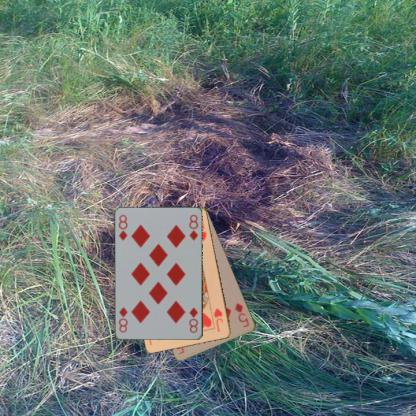5d: (232, 300, 251, 329)
8d: (116, 212, 129, 242), (187, 305, 199, 335)
Jh: (212, 305, 224, 333)
